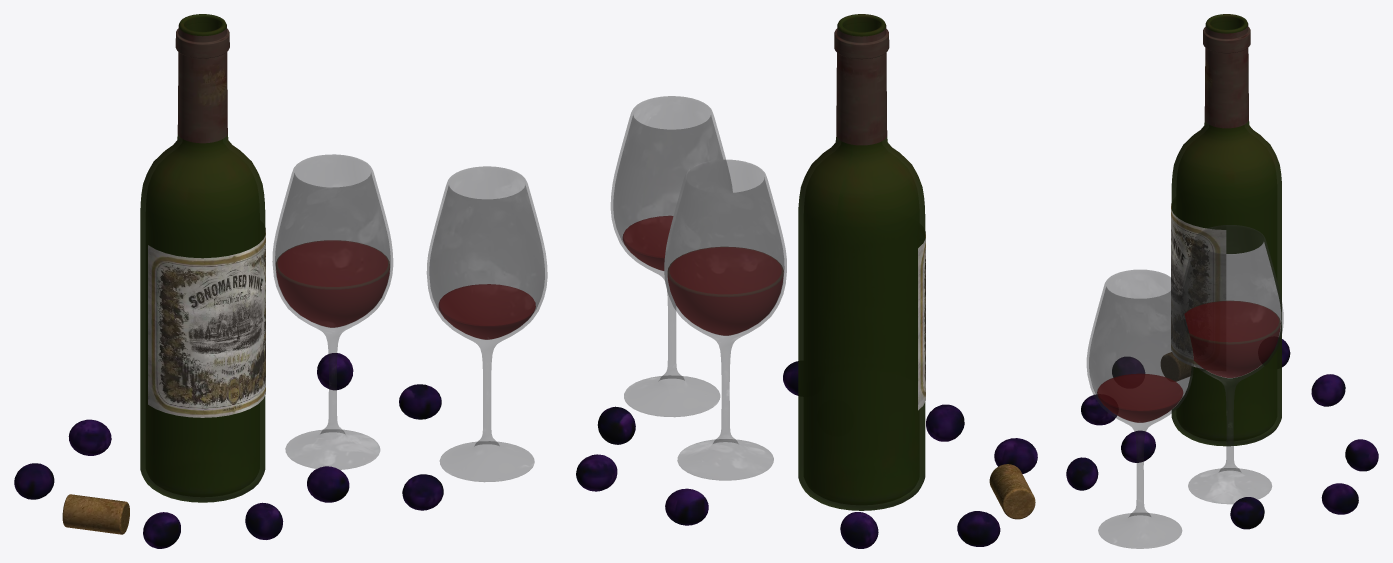
The model's file is opti_wine_objects.glb.
The picture shows the model from 3 angles, left to right: view 1: azimuth 30°, elevation 25°; view 2: azimuth 150°, elevation 25°; view 3: azimuth 270°, elevation 25°; orthographic projection. The views are drawn at different scales.
Visible parts, largest first — view 1: Glass2, Wineglass:F; view 2: Glass2, Wineglass:F; view 3: Glass2, Wineglass:F.
Part boxes in pixels (x1,y1,x2,y2): Glass2: [140, 14, 547, 502]; Wineglass:F: [14, 25, 443, 548]; Glass2: [611, 14, 925, 510]; Wineglass:F: [576, 25, 1037, 548]; Glass2: [1087, 14, 1283, 548]; Wineglass:F: [1066, 23, 1378, 529].
Size of the model in its own units: 9.57 by 9.4 by 6.53.
2 materials, 2 textured.
